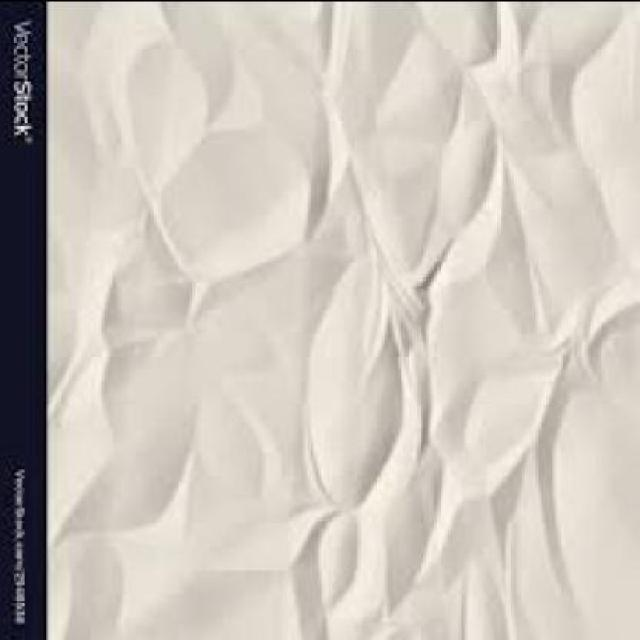PAPER: (52, 1, 638, 637)
